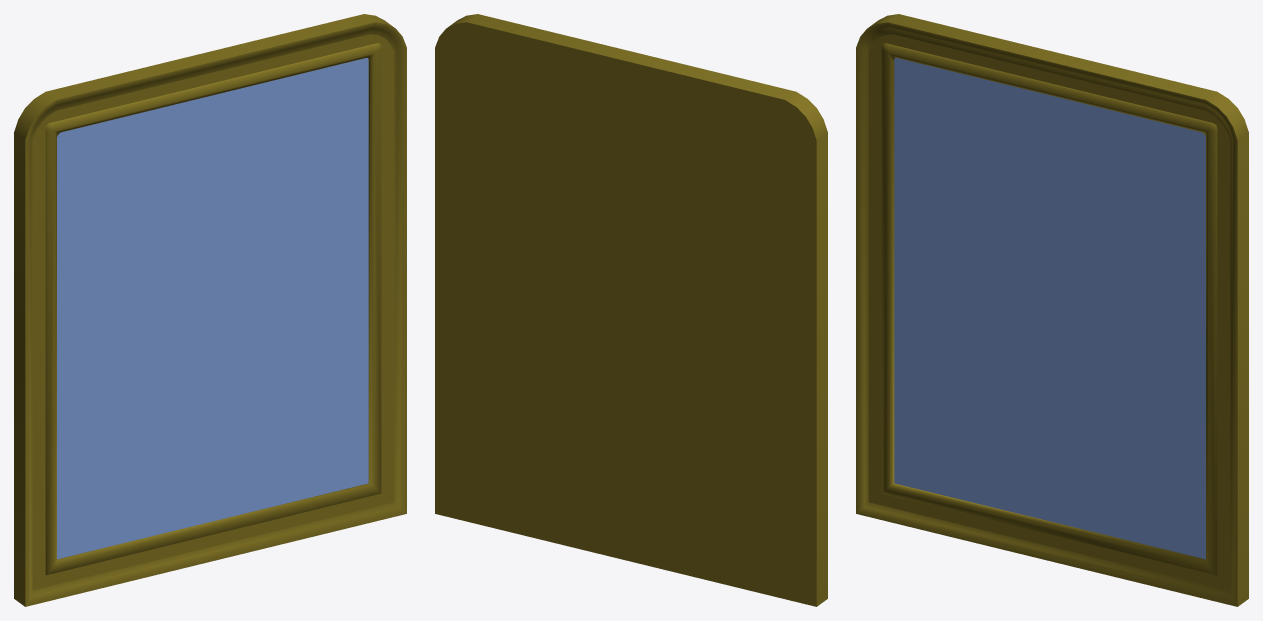
Rendered from Old Mirror.FBX.
3 renders of one model, left to right at view 1: azimuth 30°, elevation 25°; view 2: azimuth 150°, elevation 25°; view 3: azimuth 330°, elevation 25°, orthographic.
Parts seen in each view (by area): view 1: Old Mirror Low; view 2: Old Mirror Low; view 3: Old Mirror Low.
Boxes of the visible parts, x1,y1,x2,y2 form: Old Mirror Low: (14,14,406,606); Old Mirror Low: (435,14,827,606); Old Mirror Low: (856,14,1248,606).
Size of the model in its own units: 120 by 150 by 6.14.
